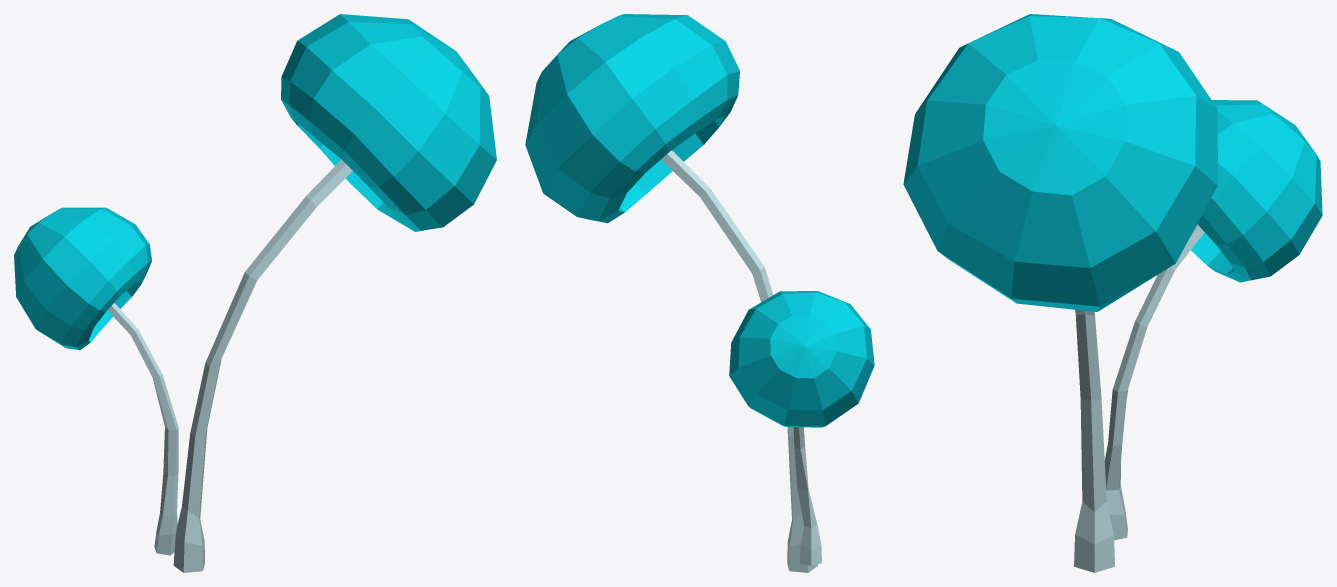
The model's file is geo_blue_mushroom_bunch.fbx.
3 renders of one model, left to right at view 1: azimuth 30°, elevation 25°; view 2: azimuth 150°, elevation 25°; view 3: azimuth 270°, elevation 25°, orthographic. The views are drawn at different scales.
Parts seen in each view (by area): view 1: geo_blue_mushroom_bunch; view 2: geo_blue_mushroom_bunch; view 3: geo_blue_mushroom_bunch.
Part boxes in pixels (box(x1,y1,x2,y2)): geo_blue_mushroom_bunch: box(14, 14, 496, 572); geo_blue_mushroom_bunch: box(525, 14, 874, 572); geo_blue_mushroom_bunch: box(903, 14, 1322, 572).
Bounding box in the file's own units: 0.6076 × 0.7507 × 0.4415.
